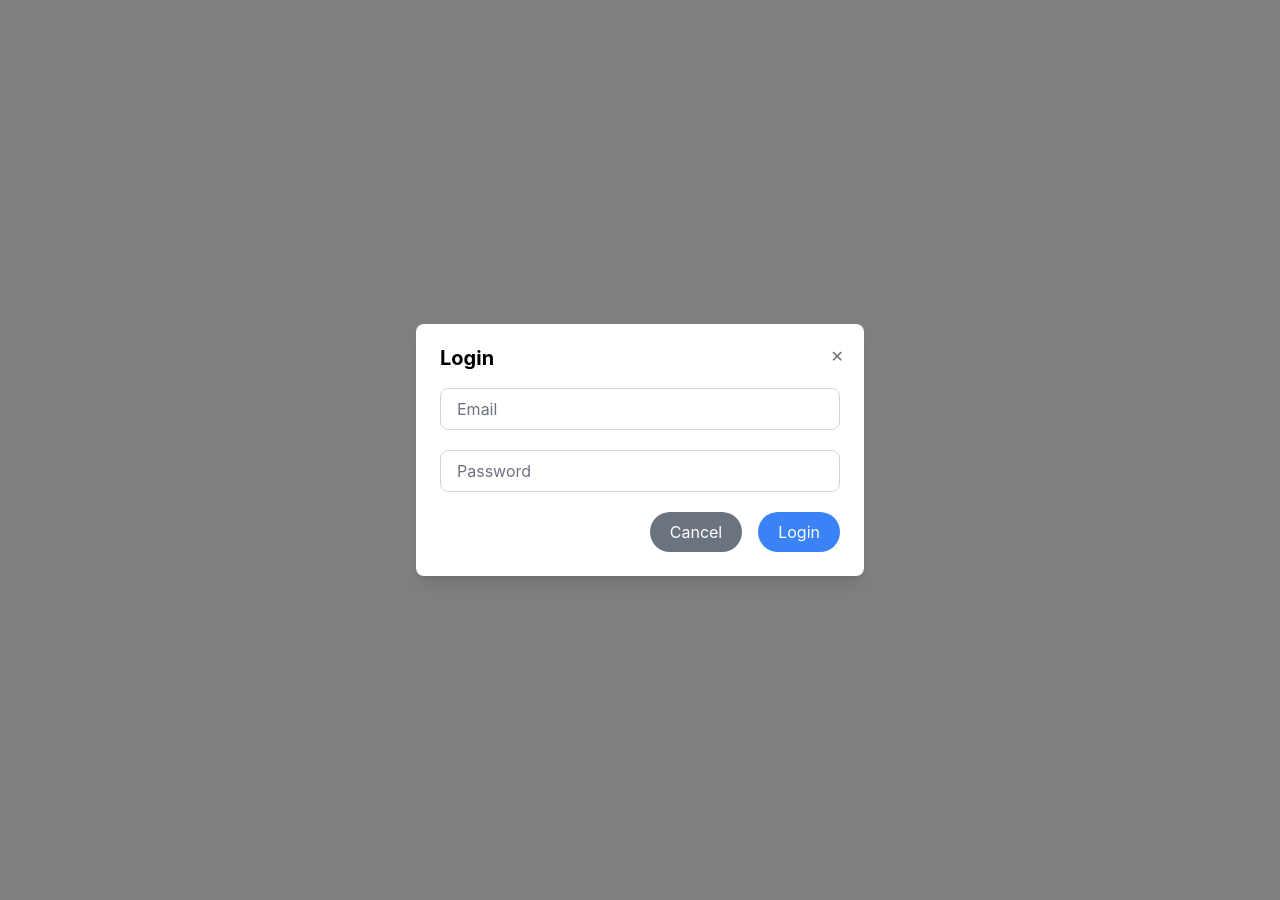
Test: LoginModal Component › validates fields on input change
Type "aasd" into the field with placeholder "Email" at (640, 409), box [440,388,840,430]
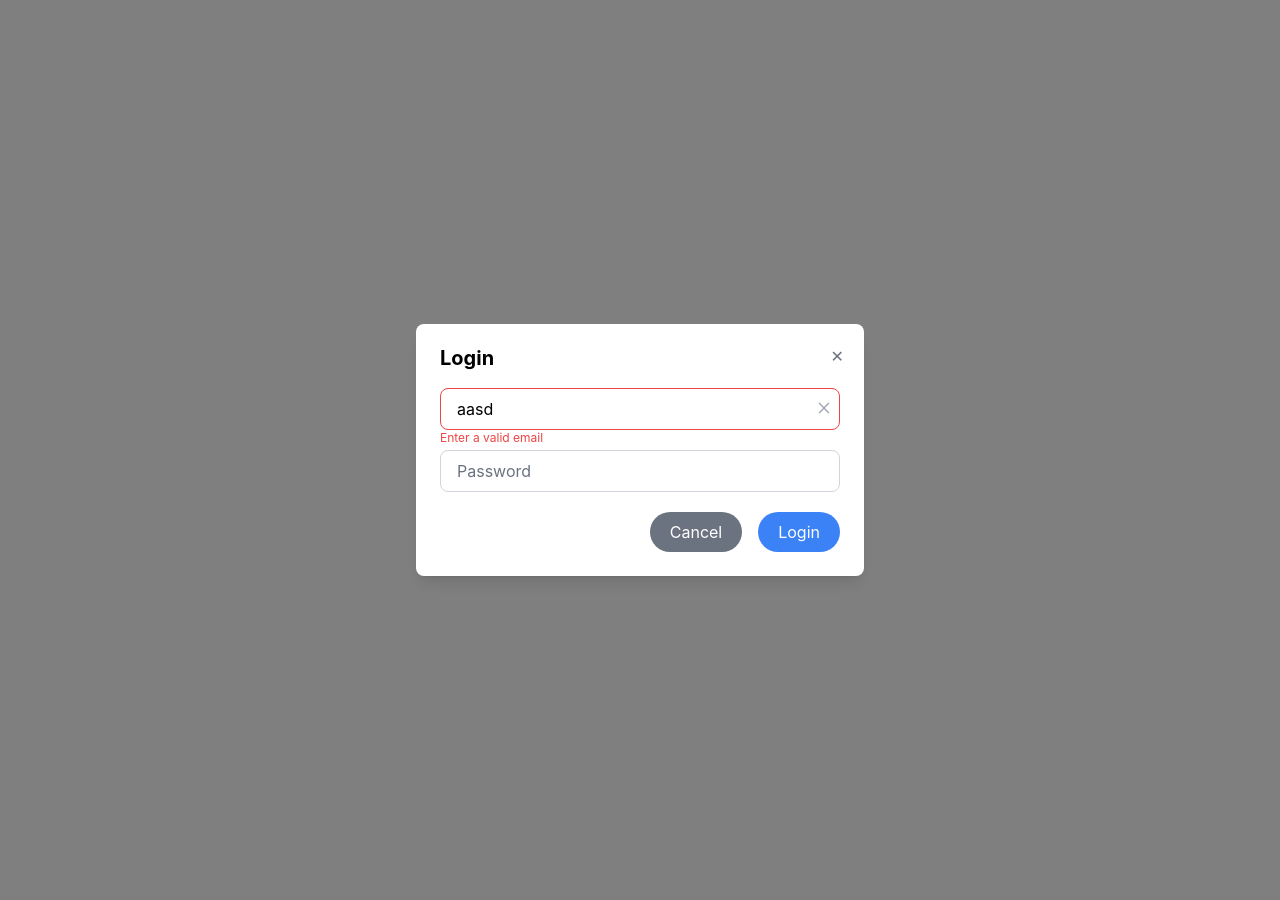
Result: the text "Enter a valid email" is shown at [440,430,543,445]
